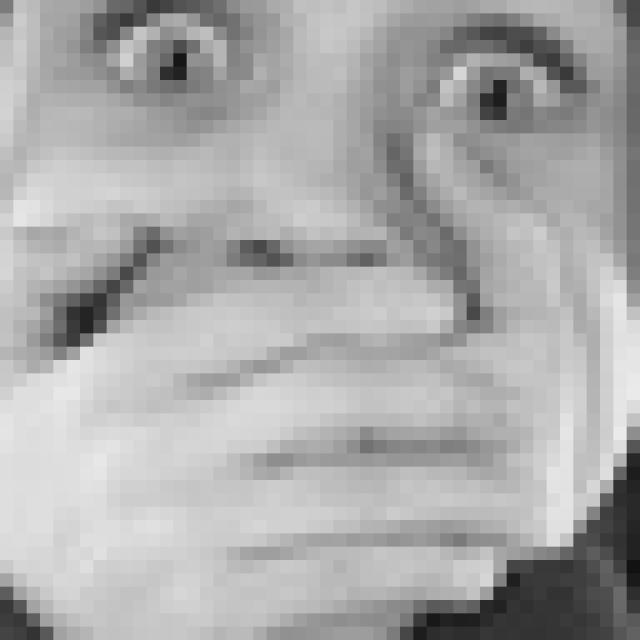fear: (70, 0, 610, 494)
